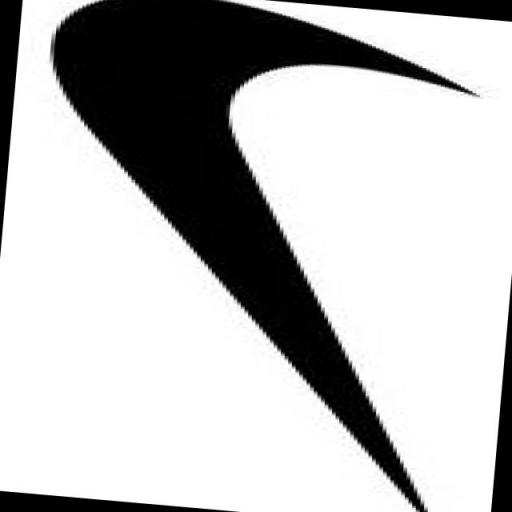Nike: (14, 0, 478, 512)
